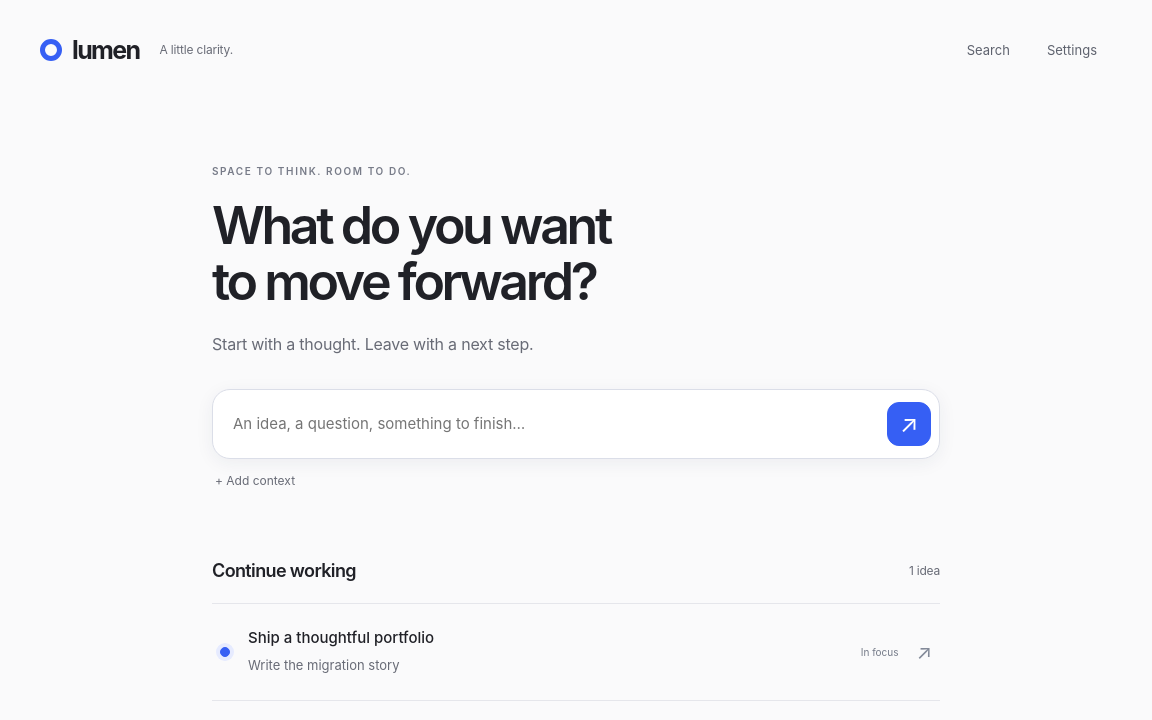
Test: resumes saved work after reload with its next action and draft outcome intact
This screenshot has width=1152, height=720.
Click the button with aria-label "Open Ship a thoughtful portfolio" at (341, 637), box x1=212 y1=604 x2=940 y2=700
(page scrolled)
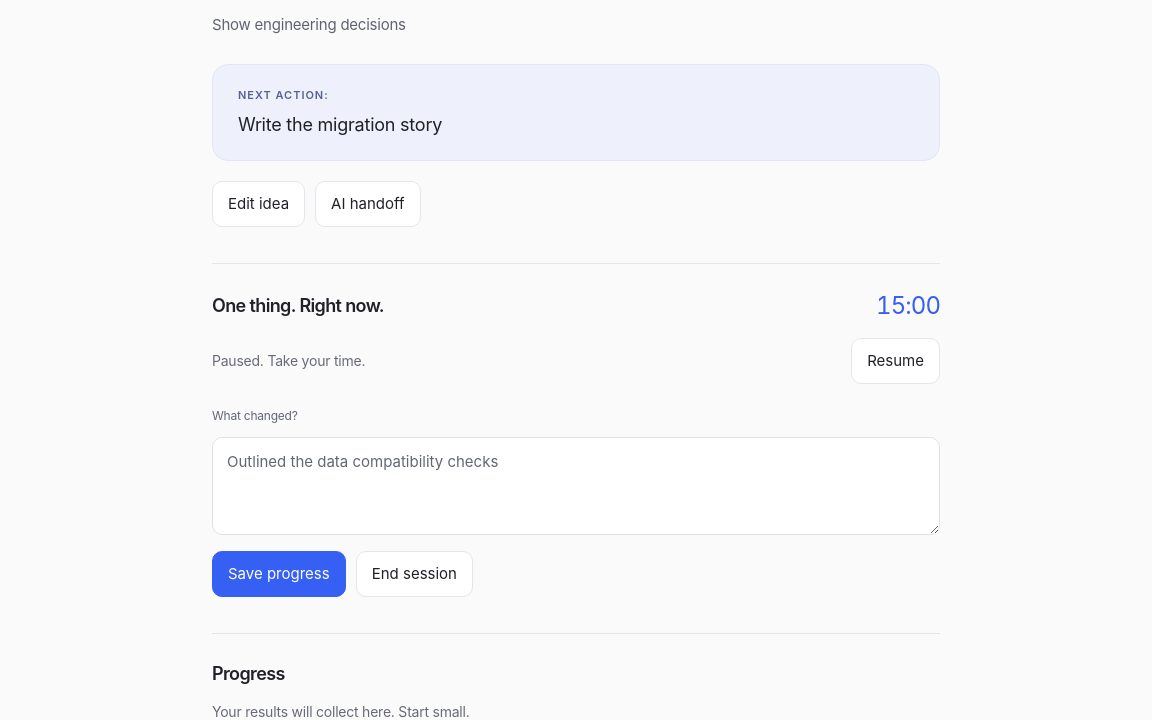
Result: the text "Write the migration story" is shown at x1=238 y1=114 x2=442 y2=135
Result: the text box labelled "What changed?" holds "Outlined the data compatibility checks" at x1=212 y1=437 x2=940 y2=535
Click the button "Resume" at (896, 361), box x1=851 y1=338 x2=940 y2=384
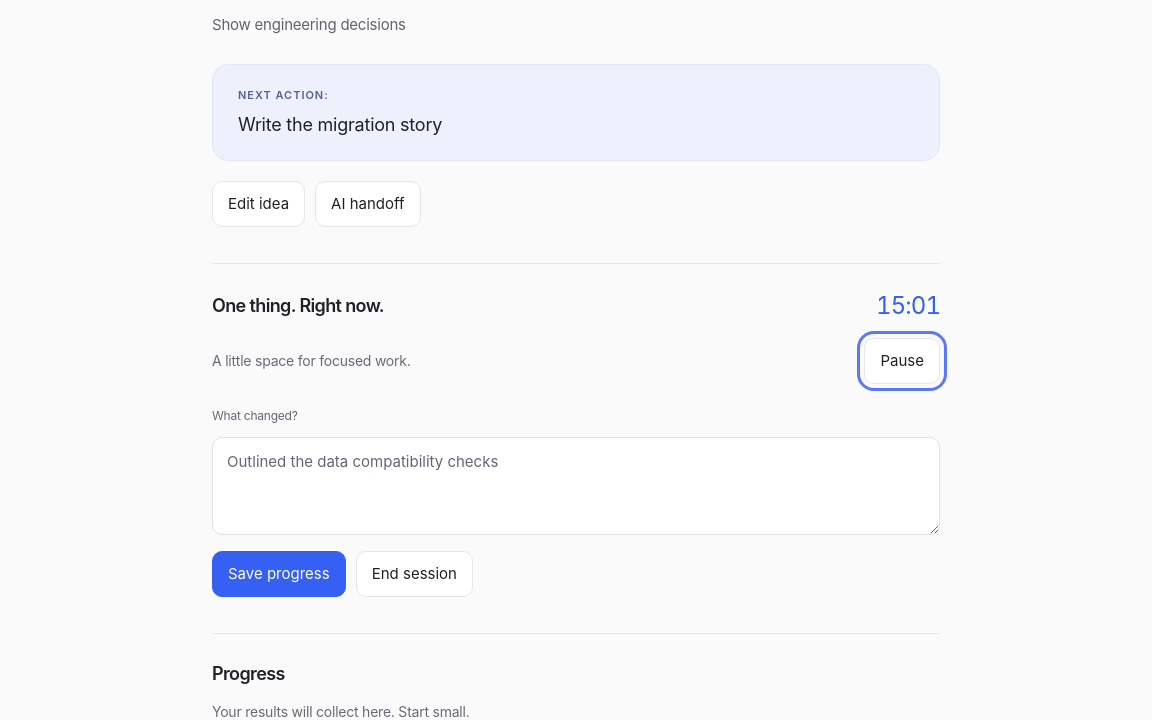
Click the button "Save progress" at (279, 574), box x1=212 y1=551 x2=346 y2=597
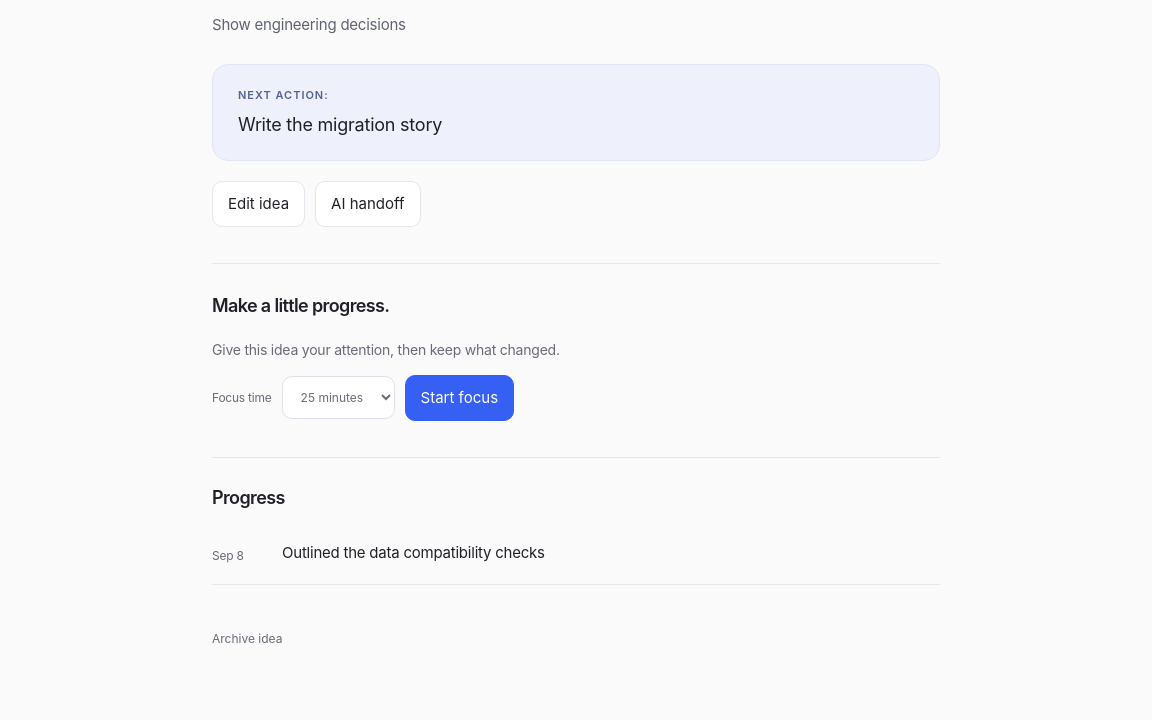
Result: the text "Outlined the data compatibility checks" is shown at x1=282 y1=543 x2=545 y2=562
